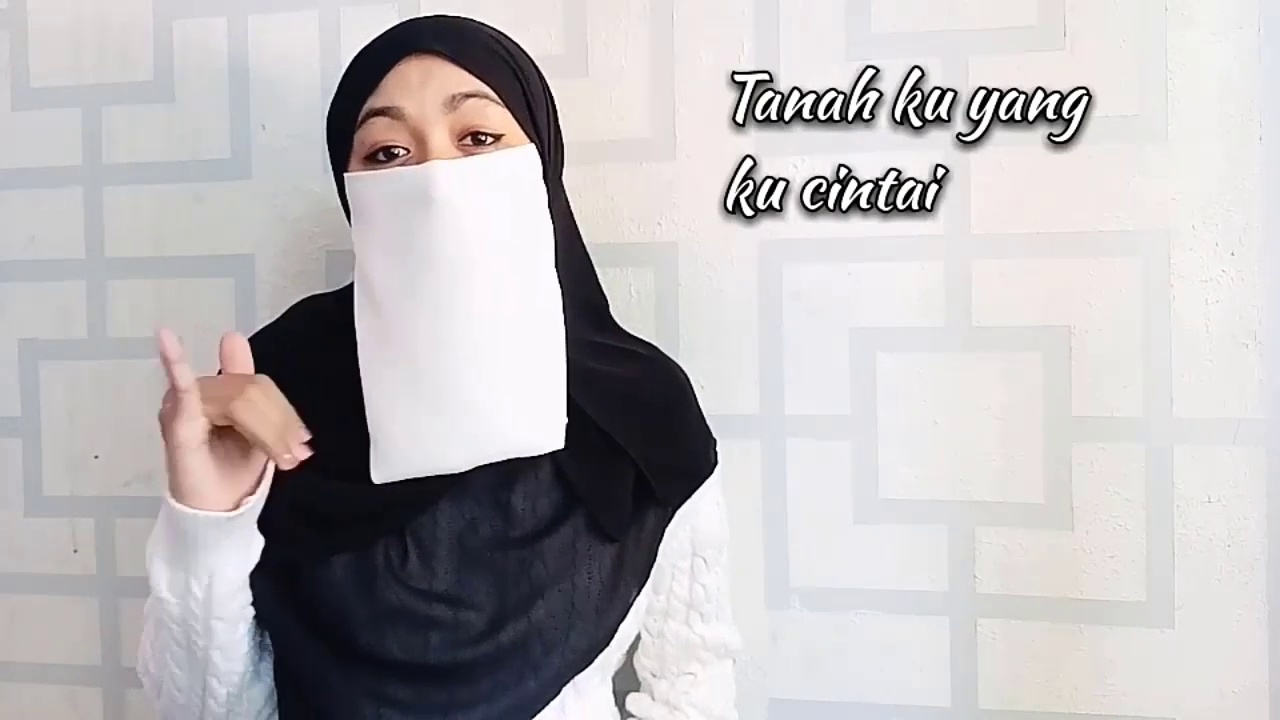YANG: (141, 316, 320, 526)
